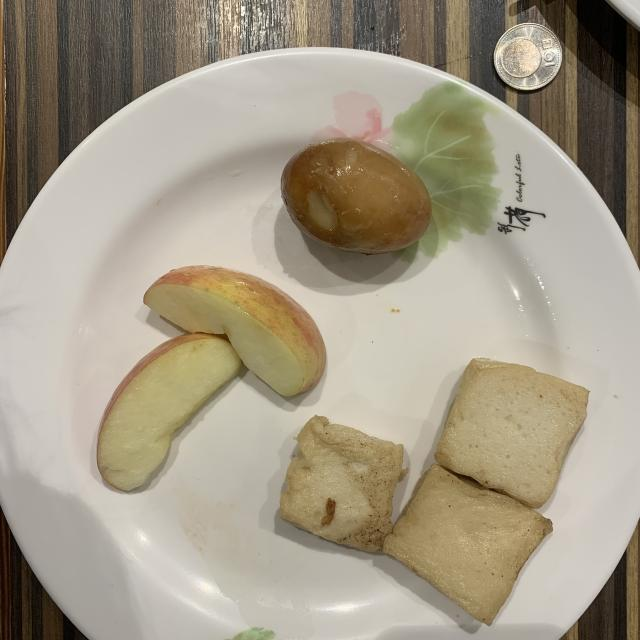apple -sliced-: (98, 266, 326, 490)
coin: (494, 22, 562, 90)
creamy tofu -without sauce-: (280, 359, 589, 625)
soy egg: (281, 139, 431, 254)
